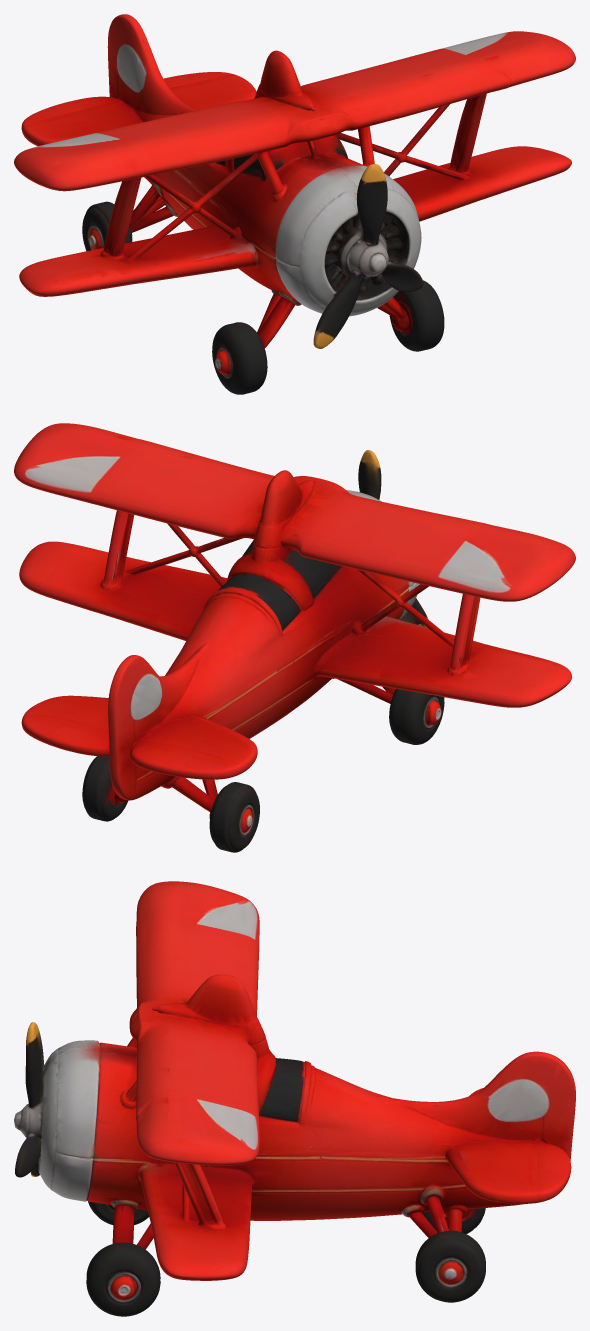
Rendered from biplane.glb.
3 views of the same model, one above another, from view 1: azimuth 30°, elevation 25°; view 2: azimuth 150°, elevation 25°; view 3: azimuth 270°, elevation 25° (orthographic). The views are drawn at different scales.
Visible parts, largest first — view 1: material; view 2: material; view 3: material.
Part boxes in pixels (left/top/right/bottom): material: left=14, top=14, right=575, bottom=394; material: left=14, top=423, right=575, bottom=852; material: left=14, top=881, right=575, bottom=1316.
Bounding box in the file's own units: 1.07 × 0.5357 × 0.9293.
1 material, 1 textured.
